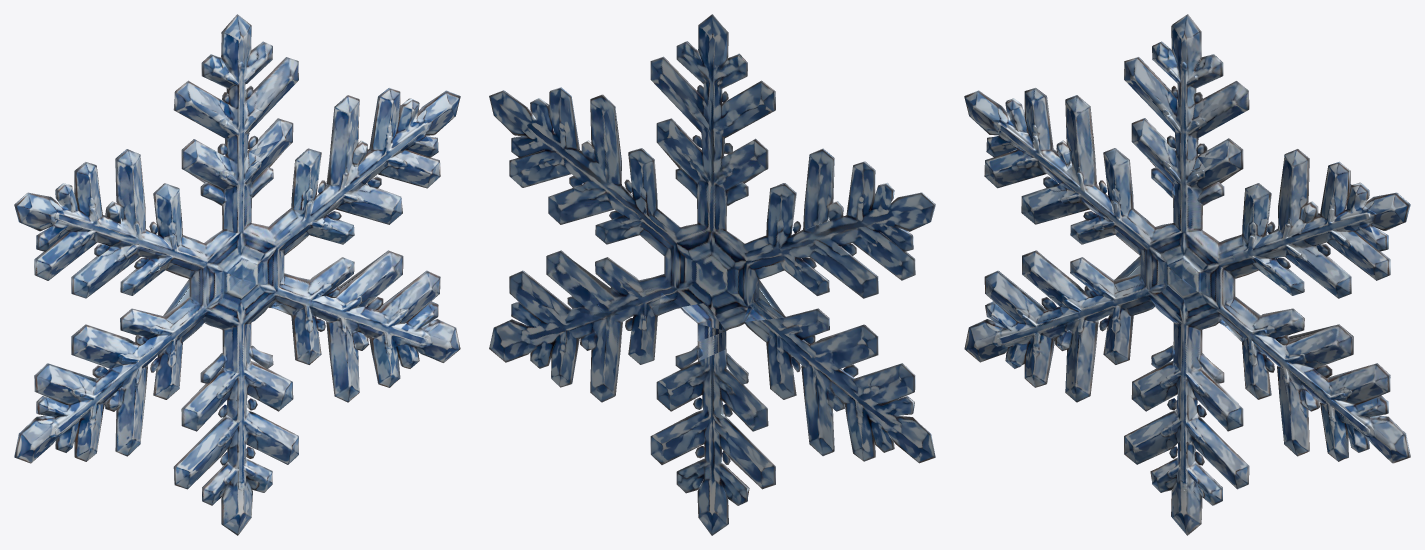
File: snowflake.glb
The picture shows the model from 3 angles, left to right: view 1: azimuth 30°, elevation 25°; view 2: azimuth 150°, elevation 25°; view 3: azimuth 330°, elevation 25°; orthographic projection.
Visible parts, largest first — view 1: geometry_0; view 2: geometry_0; view 3: geometry_0.
Part boxes in pixels (x1=…): geometry_0: x1=14, y1=14, x2=460, y2=535; geometry_0: x1=489, y1=14, x2=935, y2=535; geometry_0: x1=964, y1=14, x2=1410, y2=535.
Bounding box in the file's own units: 0.8491 × 0.9487 × 0.0205.
Materials: 1 (1 with a texture image).
